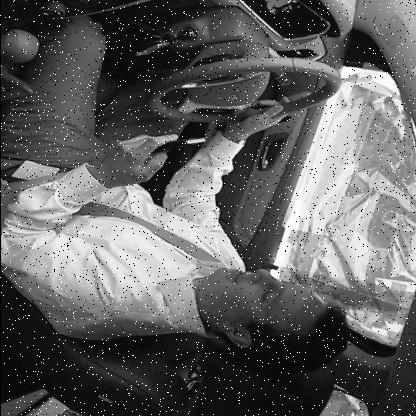seatbelt: (91, 196, 365, 367)
